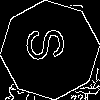S: (25, 25, 75, 63)
